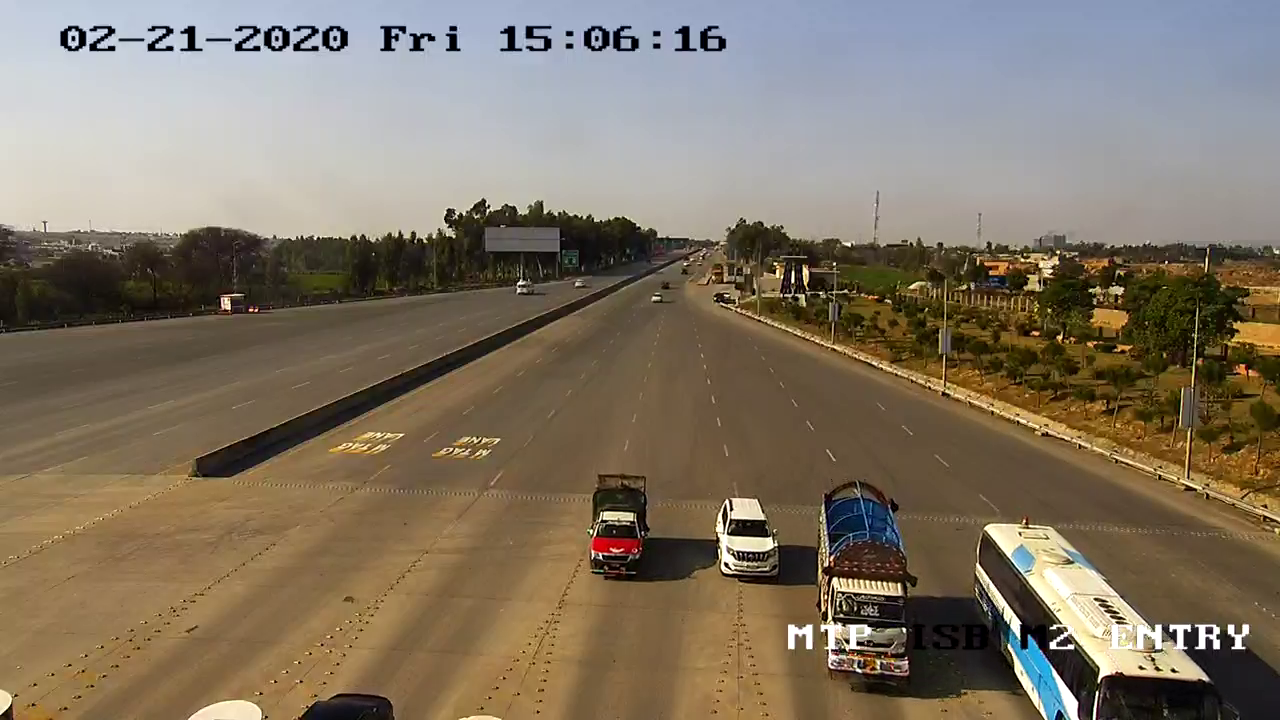f1: (703, 488, 793, 586)
f2: (572, 469, 660, 594)
